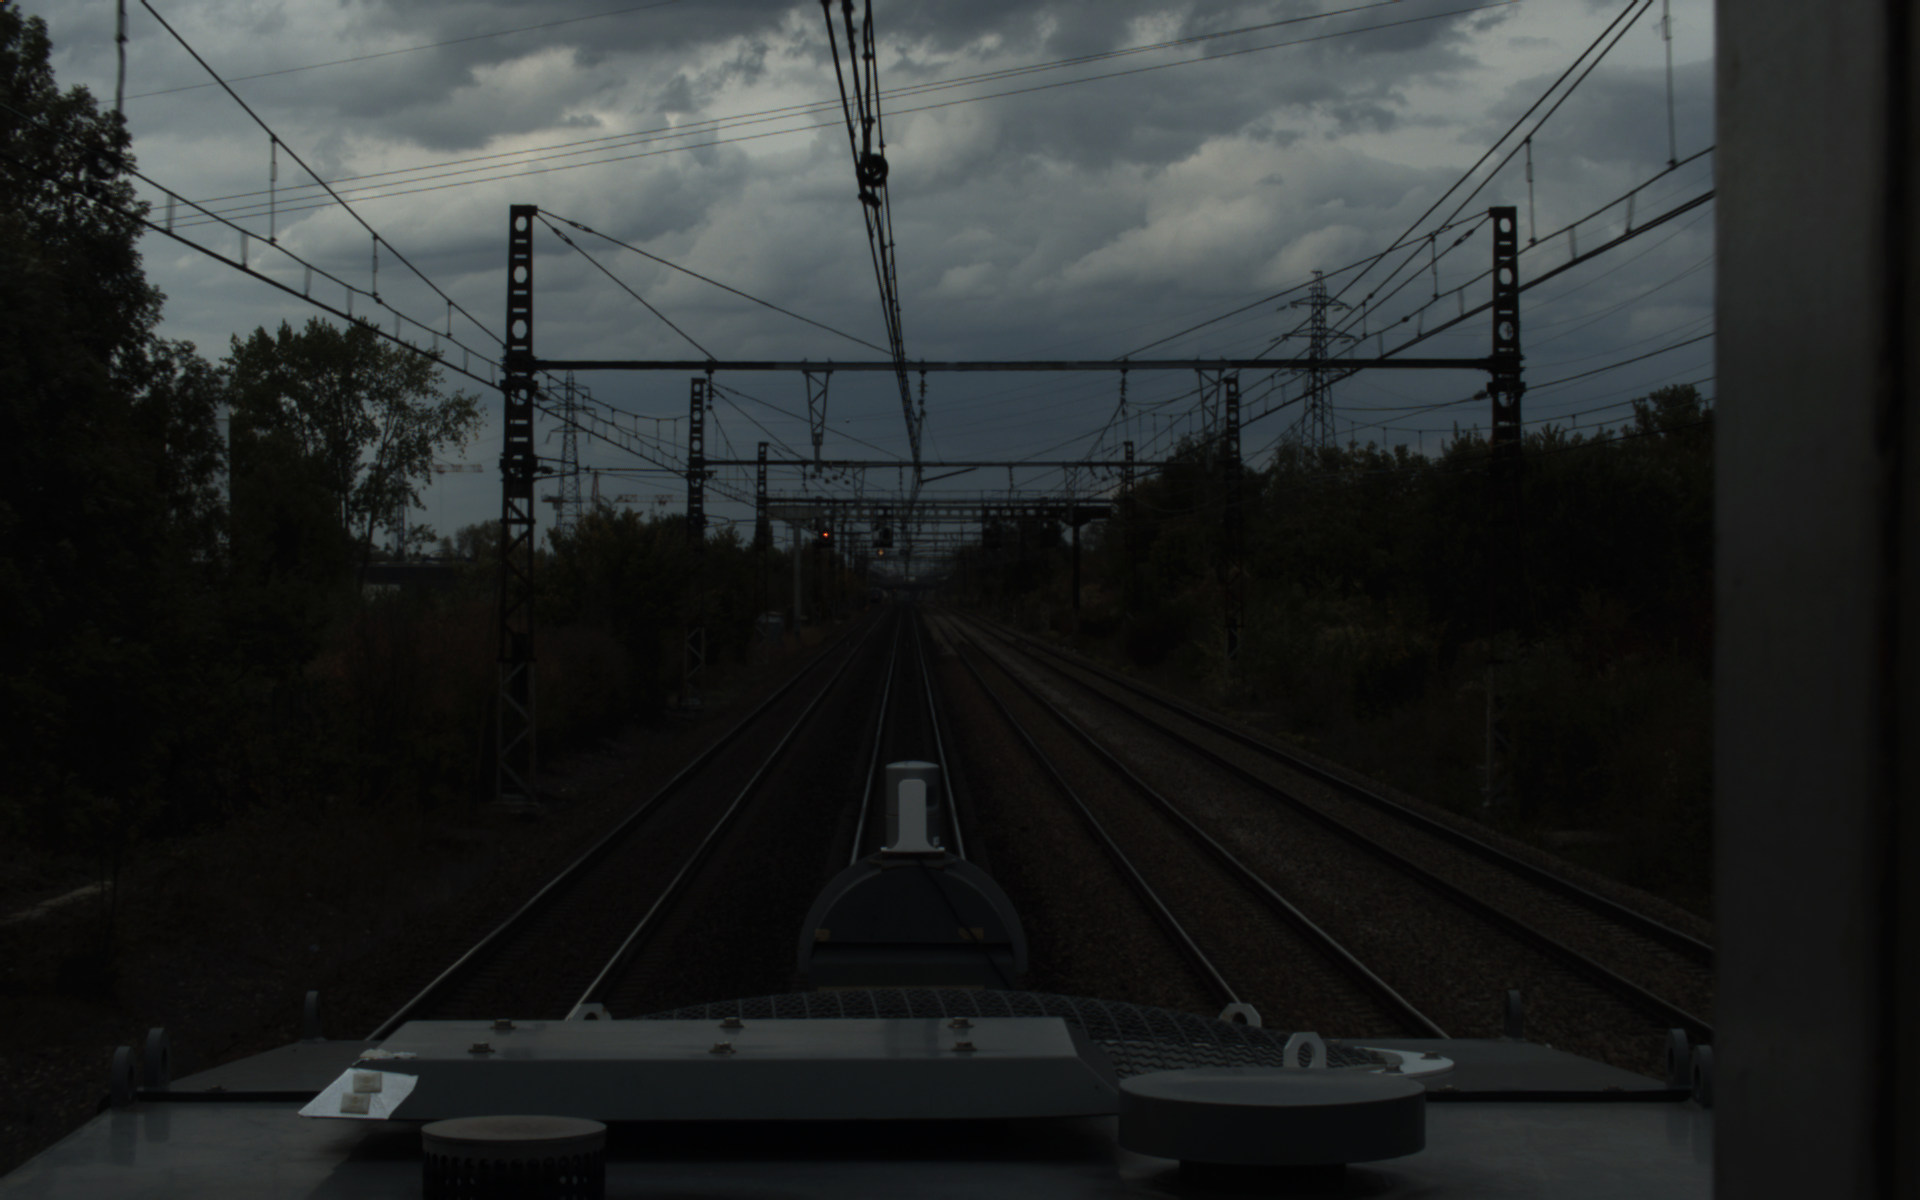Blinking: (881, 525, 893, 545)
Fixed: (817, 524, 834, 543)
